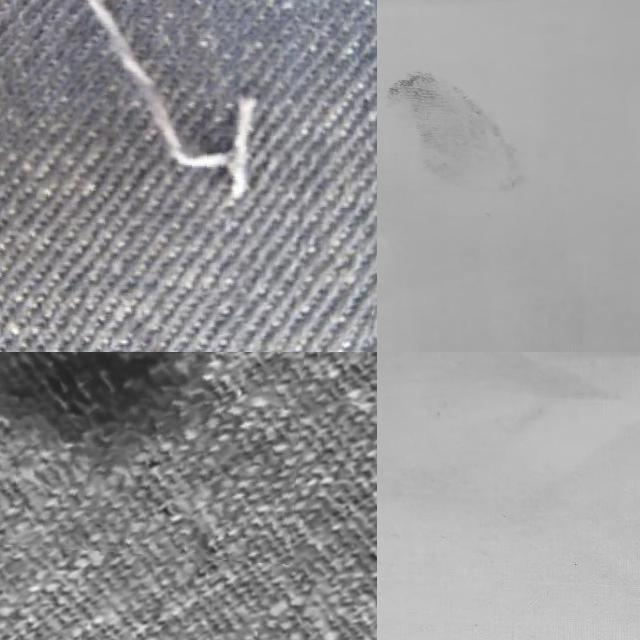Hole: (377, 36, 551, 230)
seam: (0, 352, 310, 558)
